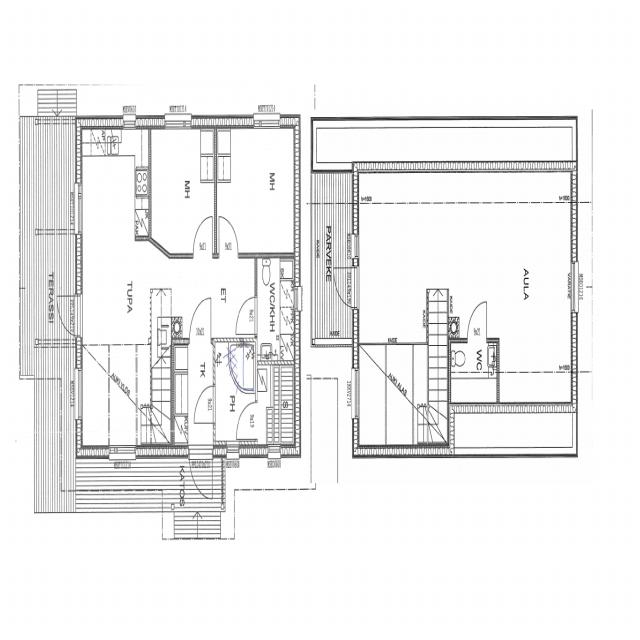door: (189, 445, 212, 501), (54, 294, 82, 335), (332, 267, 359, 307), (190, 296, 211, 345), (235, 296, 257, 335), (467, 301, 487, 342), (193, 386, 215, 423), (193, 216, 212, 258), (219, 216, 238, 258), (236, 402, 258, 438)
